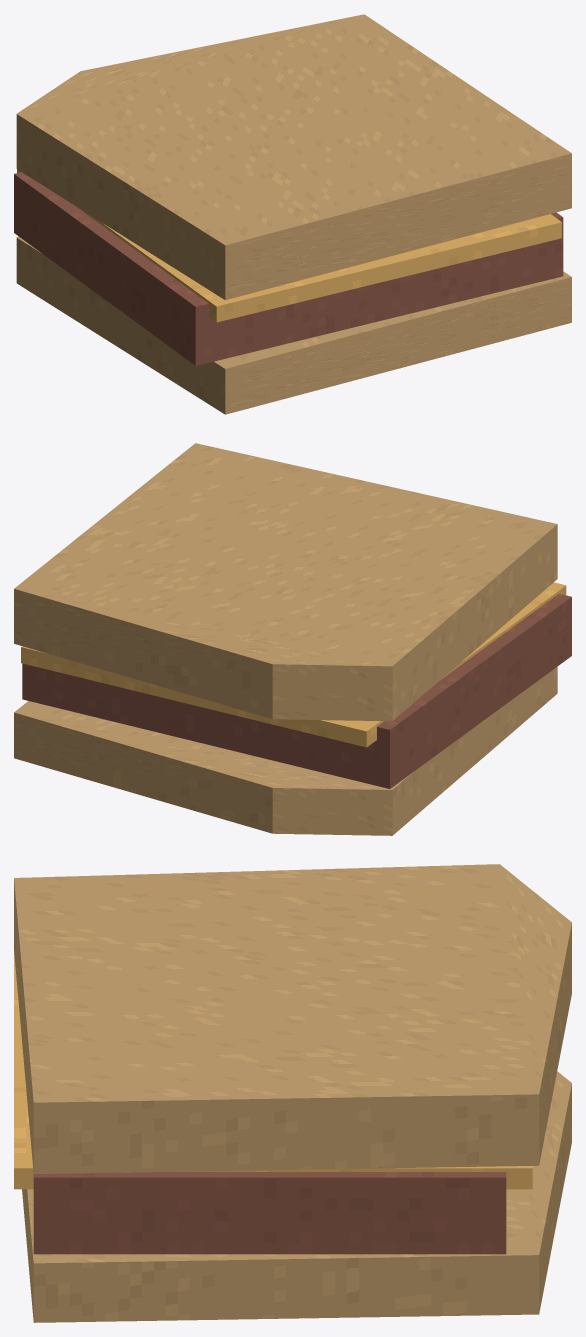
The model's file is sandwich_reuben.glb.
3 views of the same model, one above another, from view 1: azimuth 30°, elevation 25°; view 2: azimuth 150°, elevation 25°; view 3: azimuth 270°, elevation 25° (orthographic). The views are drawn at different scales.
Parts seen in each view (by area): view 1: block_upper slice, block_filling, block_lower slice, block_second filling; view 2: block_upper slice, block_lower slice, block_filling, block_second filling; view 3: block_upper slice, block_lower slice, block_filling, block_second filling.
Boxes of the visible parts, x1,y1,x2,y2 form: block_upper slice: (16,14,571,300); block_filling: (14,172,563,365); block_lower slice: (16,236,571,414); block_second filling: (17,169,561,322); block_upper slice: (14,443,557,721); block_lower slice: (14,666,557,835); block_filling: (22,593,571,788); block_second filling: (21,582,566,747); block_upper slice: (14,864,571,1173); block_lower slice: (22,1071,571,1322); block_filling: (33,1172,506,1254); block_second filling: (14,951,532,1189).
Bounding box in the file's own units: 0.0905 × 0.0389 × 0.0894.
Materials: 1 (1 with a texture image).
